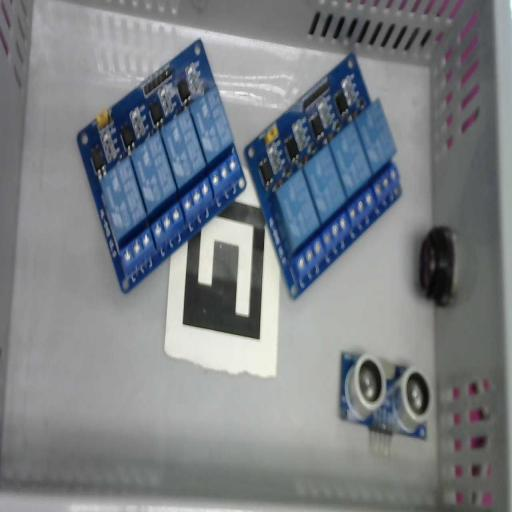QR: (182, 202, 266, 342)
relay_module: (76, 37, 246, 297), (243, 50, 404, 301)
ultrasonic_hc-sr04: (338, 351, 432, 461)
